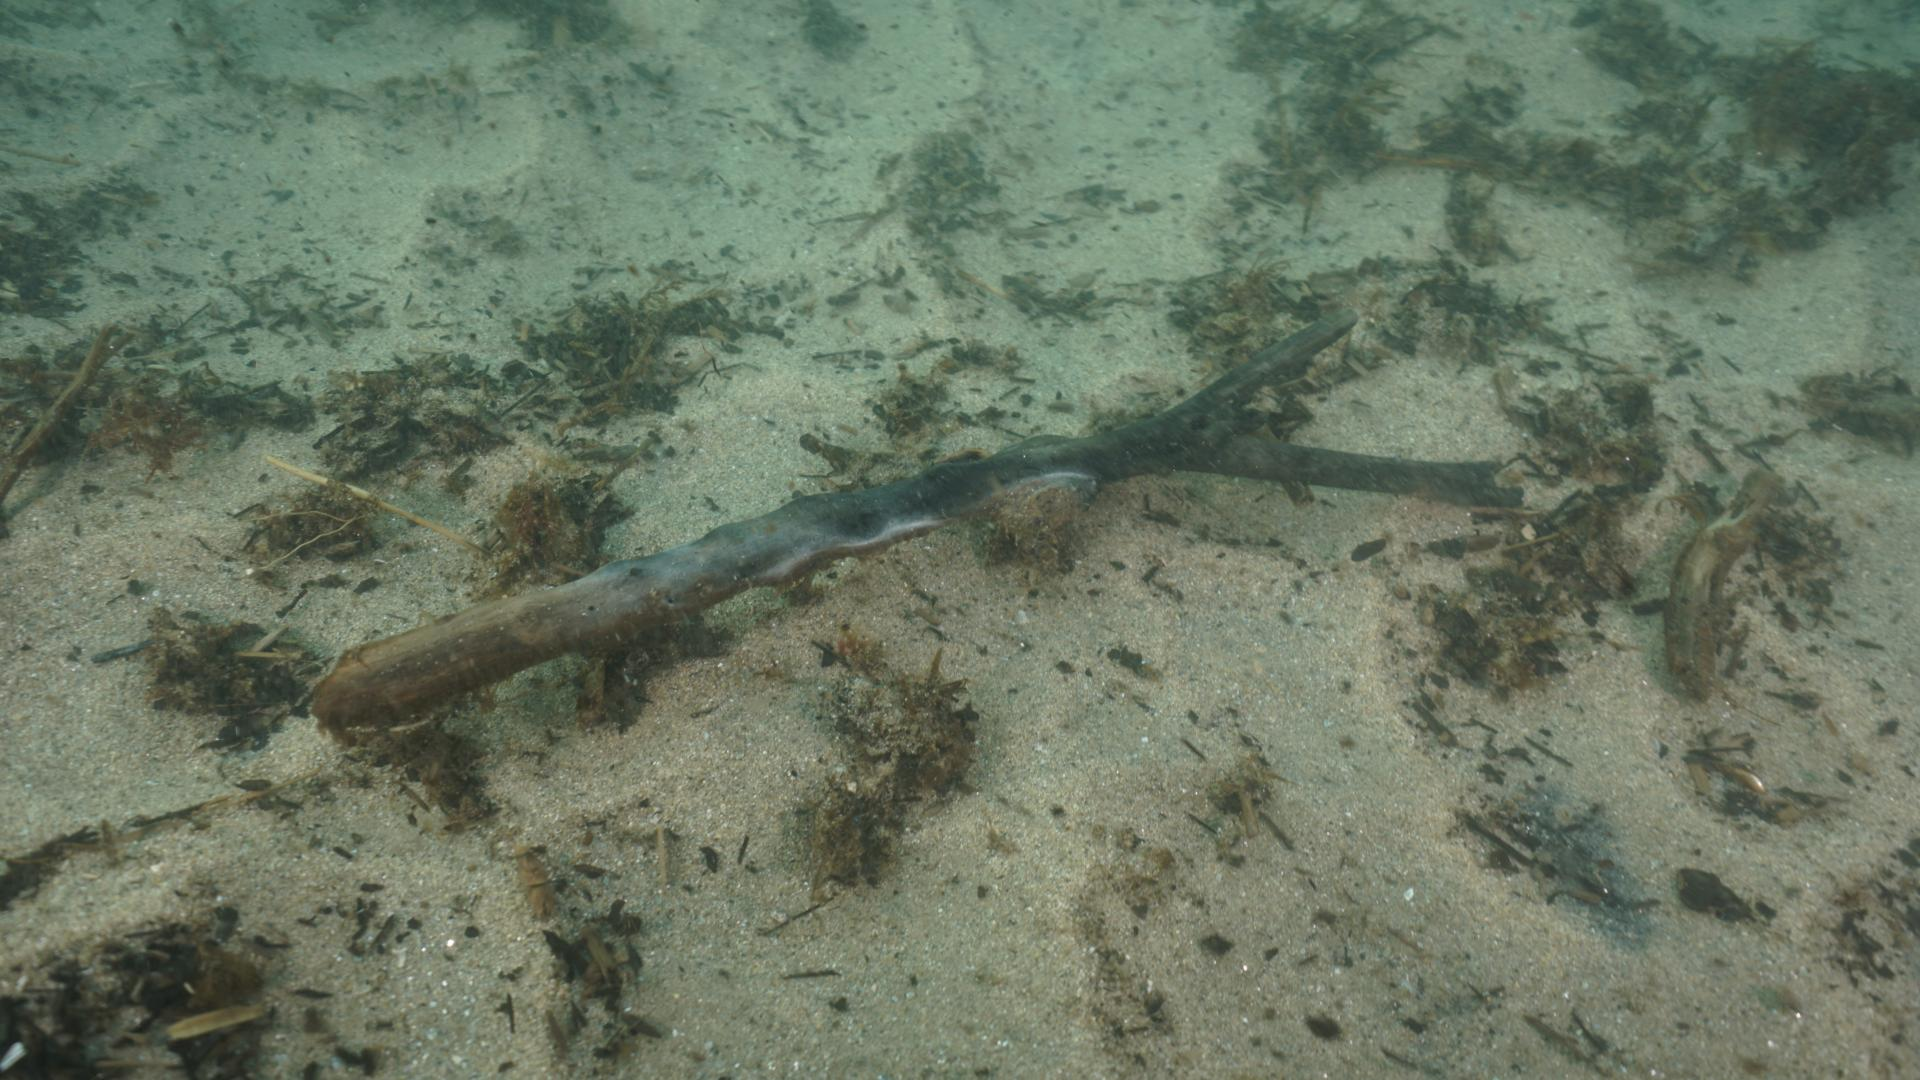wood: (302, 305, 1528, 729)
